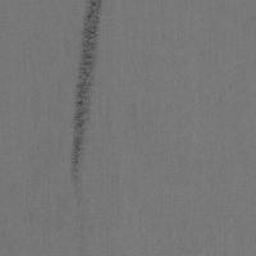Inclusion: (69, 0, 104, 206)
